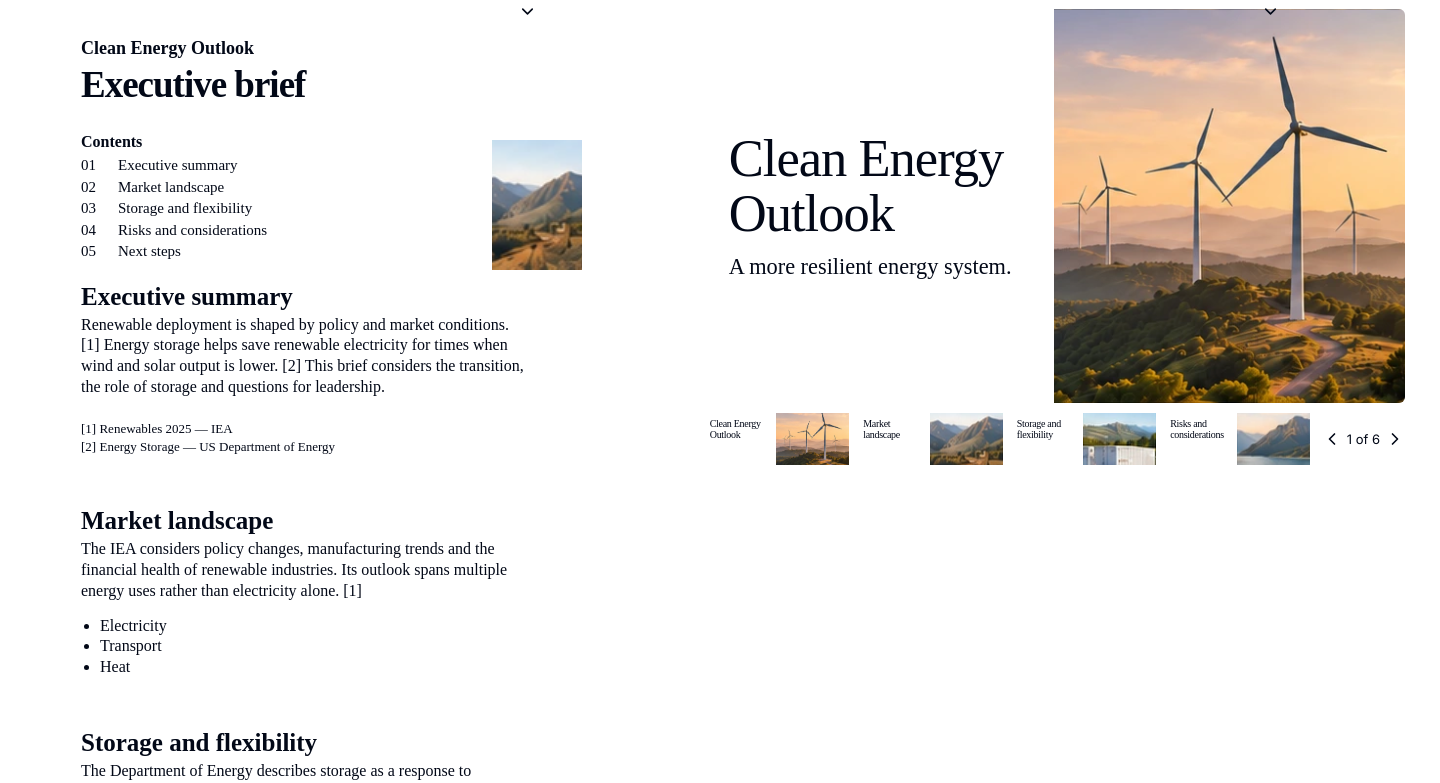
Test: actual deck paging changes the logical slide and selected thumbnail
(page scrolled)
Click the button named "Next slide". click: (1395, 439)
box: [1385,429,1405,449]
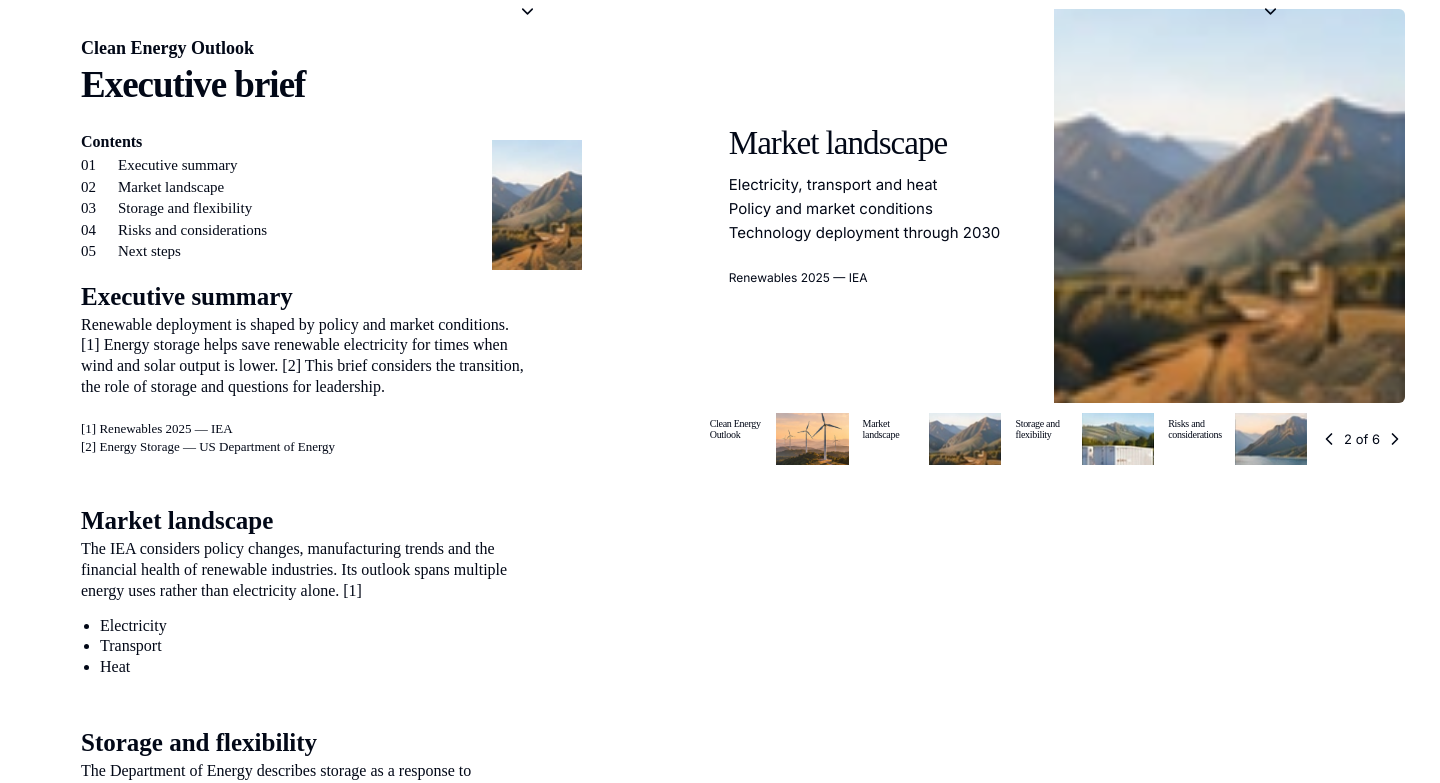
Expected: the element named "Slide 2 of 6: Market landscape" is shown, [704,9,1405,403]
Click the button named "Previous slide". click: (1329, 439)
box: [1319,429,1339,449]
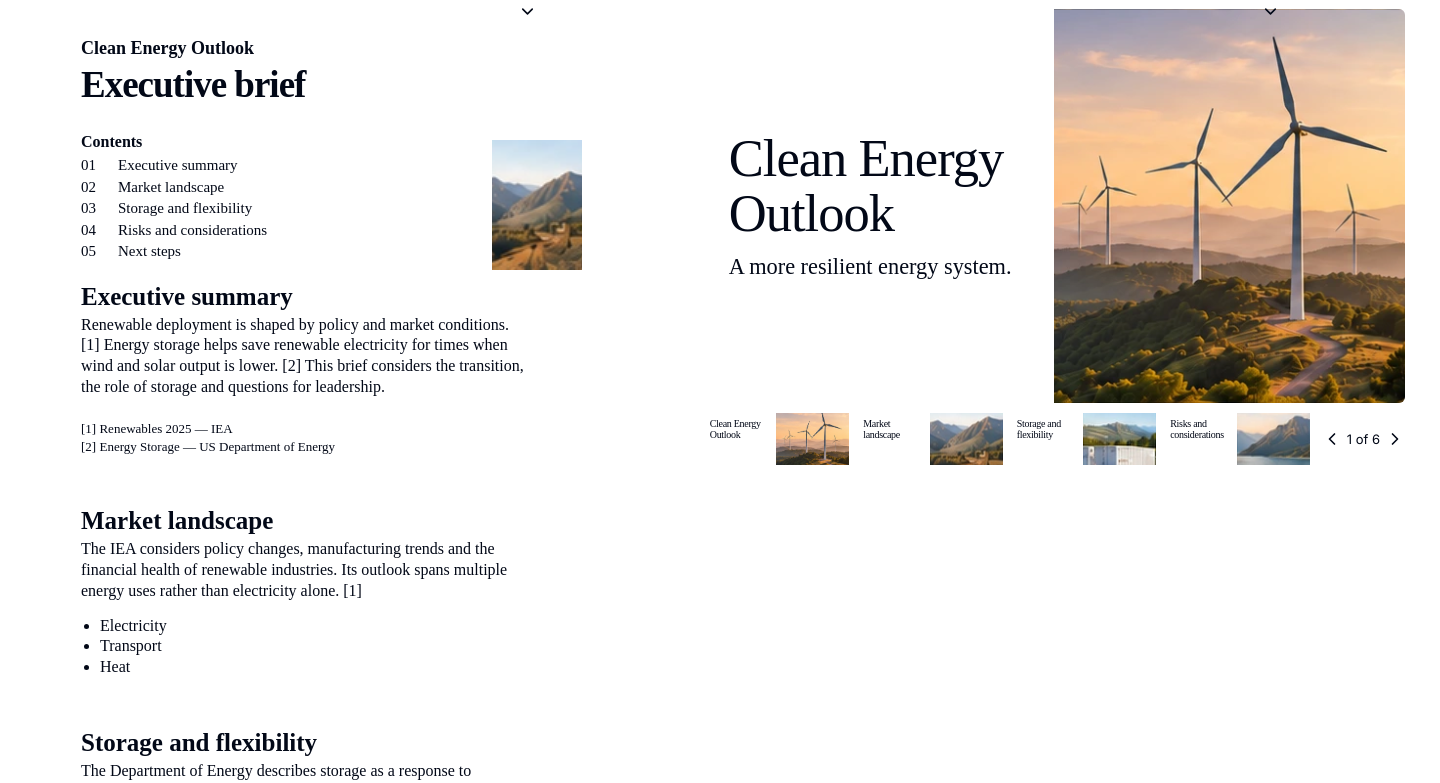
Expected: the element named "Slide 1 of 6: Clean Energy Outlook" is shown, [704,9,1405,403]
